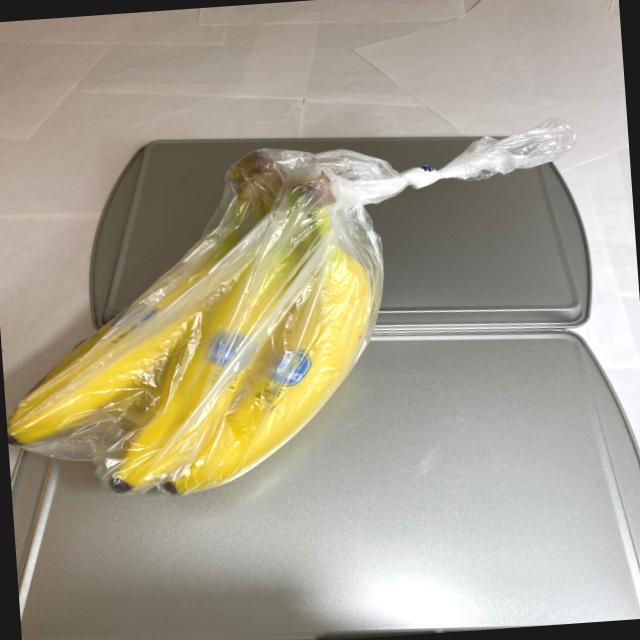banana: (0, 134, 410, 529)
